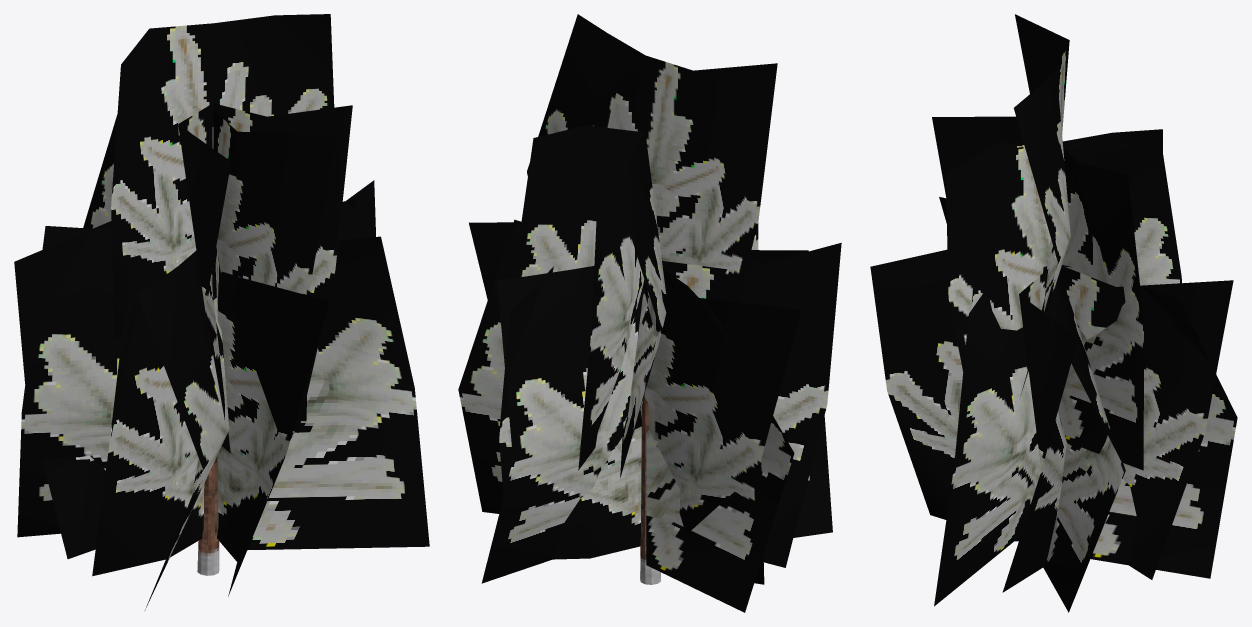
File: Дерево4.fbx
3 renders of one model, left to right at view 1: azimuth 30°, elevation 25°; view 2: azimuth 150°, elevation 25°; view 3: azimuth 270°, elevation 25°, orthographic. The views are drawn at different scales.
Visible parts, largest first — view 1: Cylinder.003; view 2: Cylinder.003; view 3: Cylinder.003.
Boxes of the visible parts, x1,y1,x2,y2 form: Cylinder.003: (14,14,429,609); Cylinder.003: (458,14,841,612); Cylinder.003: (870,14,1237,612).
Size of the model in its own units: 437 by 649 by 427.
